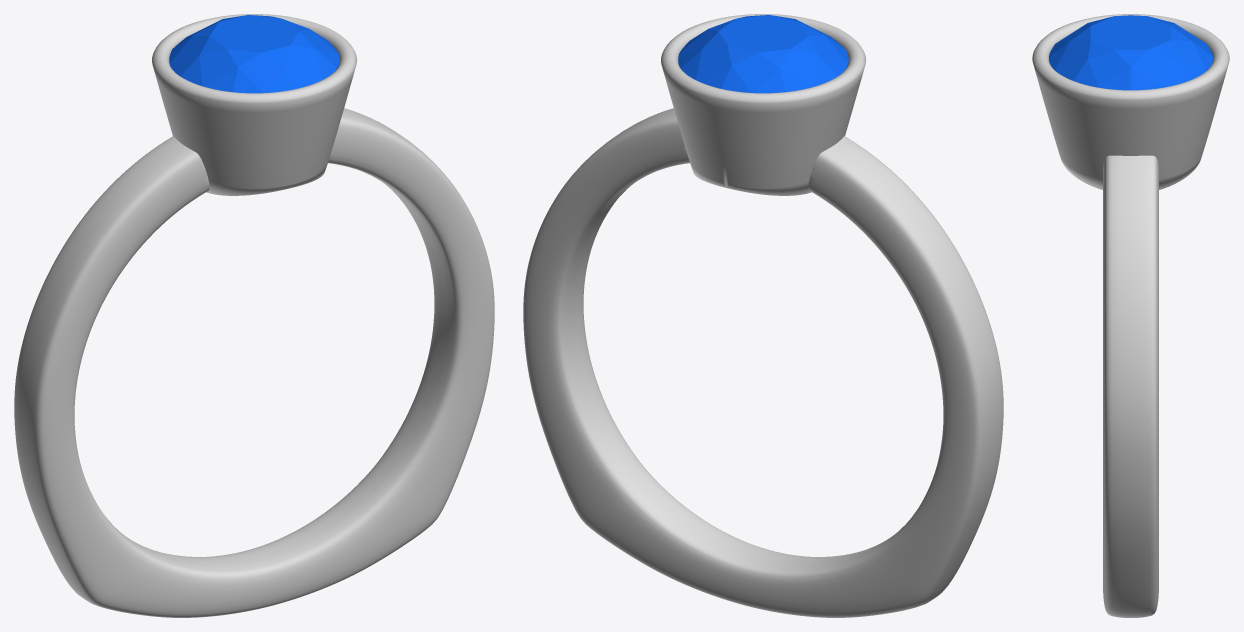
The model's file is bluesapphire-round-platinum-bezelset-europeanshank-nosidestones.glb.
3 views of the same model, side by side, from view 1: azimuth 30°, elevation 25°; view 2: azimuth 150°, elevation 25°; view 3: azimuth 270°, elevation 25° (orthographic). The views are drawn at different scales.
Visible parts, largest first — view 1: metal, stone; view 2: metal, stone; view 3: metal, stone.
Boxes of the visible parts, <box> form: metal: <box>14,14,494,617</box>; stone: <box>169,15,339,93</box>; metal: <box>523,14,1003,617</box>; stone: <box>678,15,848,93</box>; metal: <box>1032,14,1229,617</box>; stone: <box>1049,15,1212,90</box>.
Bounding box in the file's own units: 20.11 × 23.61 × 7.74.
